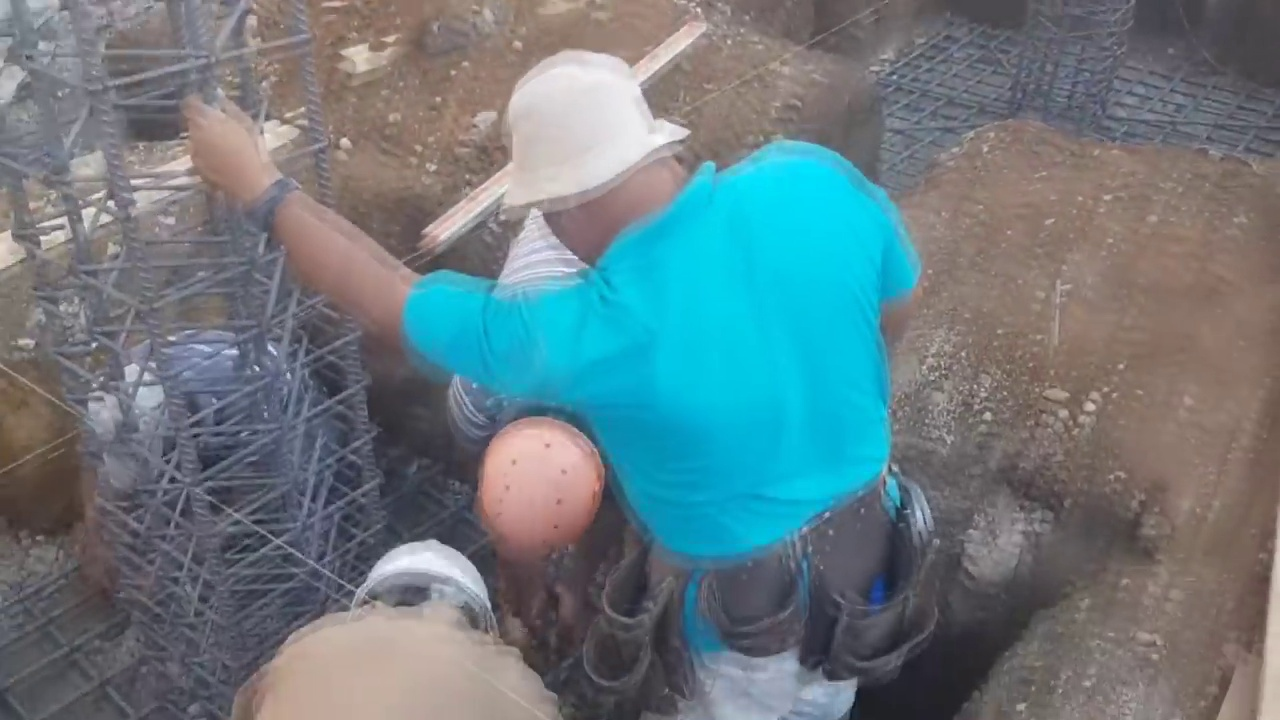helmet: (476, 417, 609, 546), (342, 550, 493, 632)
helmet-off: (498, 44, 715, 278)
helmet-on: (472, 402, 620, 552)
person: (179, 30, 933, 719), (214, 545, 563, 720), (89, 328, 314, 503)
